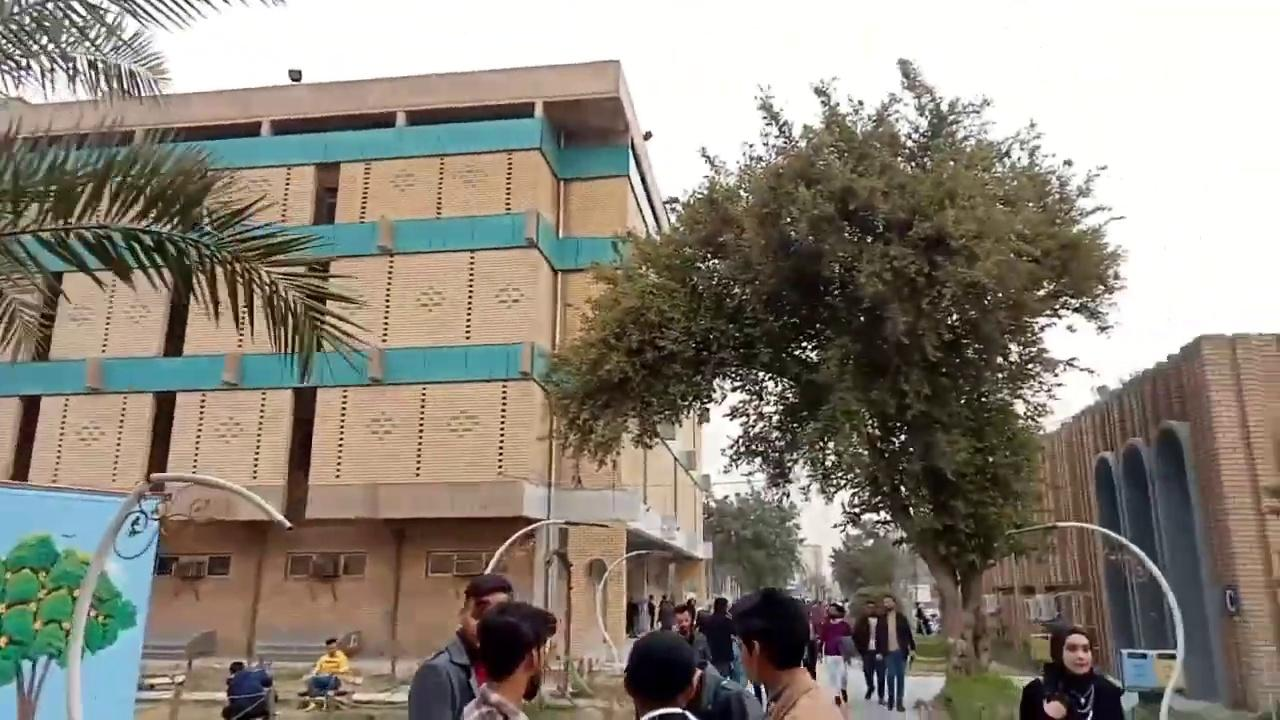person: (407, 573, 514, 719), (461, 600, 557, 719), (1019, 626, 1125, 719), (298, 637, 358, 697), (221, 661, 274, 719)
tree: (539, 55, 1130, 698), (0, 0, 376, 379), (0, 0, 287, 103), (0, 530, 138, 718), (703, 486, 806, 597), (827, 531, 902, 603)
